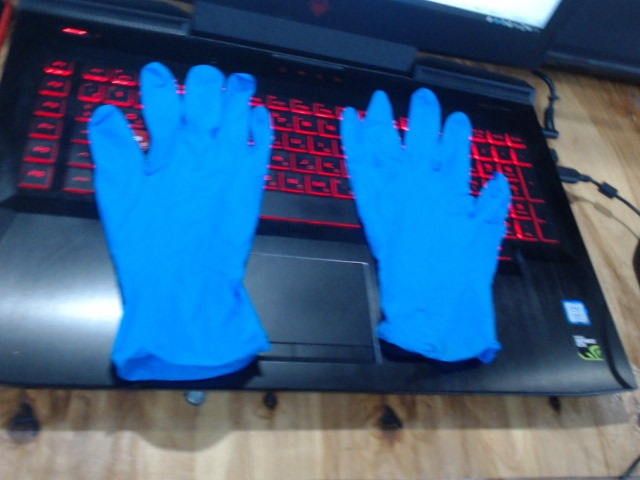medical_glove: (88, 60, 271, 381), (340, 87, 510, 364)
